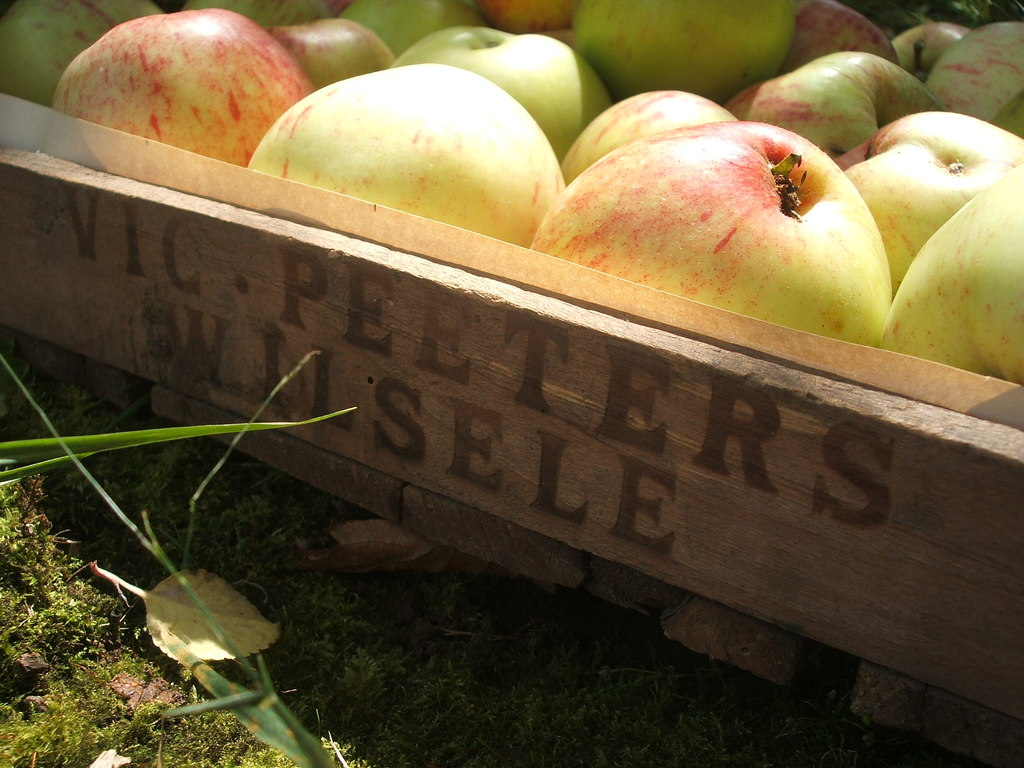Apple: (0, 0, 1023, 384), (529, 116, 889, 346)
